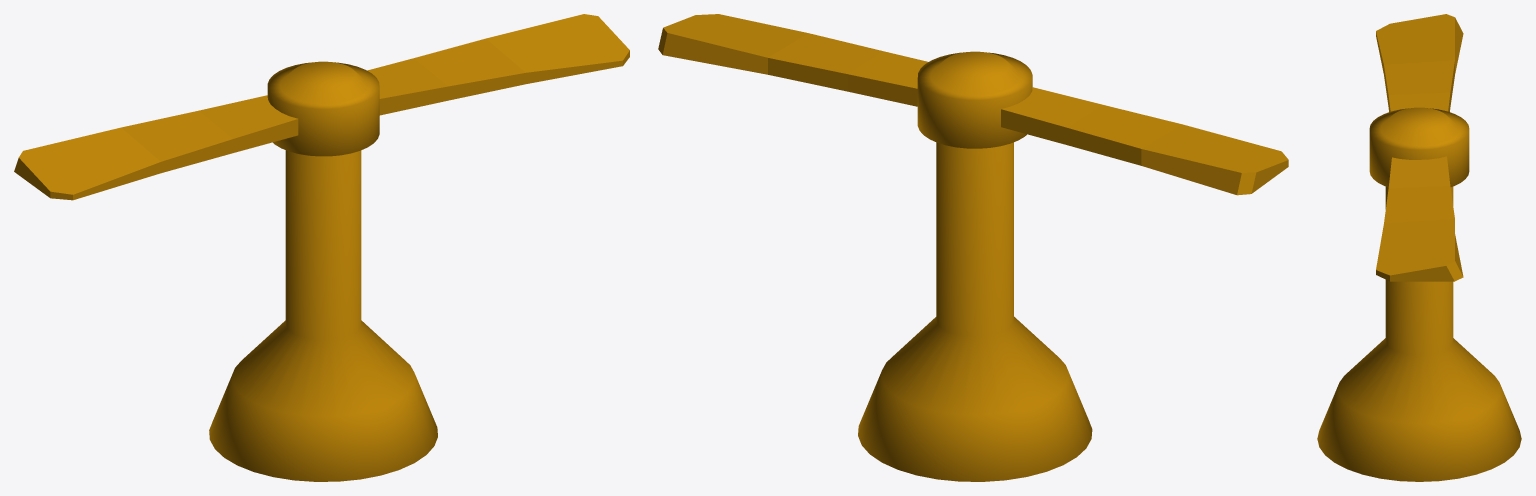
File: Bamboo_Copter.fbx
3 views of the same model, side by side, from view 1: azimuth 30°, elevation 25°; view 2: azimuth 150°, elevation 25°; view 3: azimuth 270°, elevation 25° (orthographic). The views are drawn at different scales.
Visible parts, largest first — view 1: Cylinder.009, Cylinder.007; view 2: Cylinder.009, Cylinder.007; view 3: Cylinder.009, Cylinder.007.
Boxes of the visible parts, x1,y1,x2,y2 form: Cylinder.009: (209, 150, 437, 481); Cylinder.007: (14, 14, 629, 200); Cylinder.009: (858, 142, 1092, 481); Cylinder.007: (658, 14, 1288, 195); Cylinder.009: (1317, 186, 1521, 481); Cylinder.007: (1369, 14, 1469, 281).
Bounding box in the file's own units: 49.7 × 29.35 × 17.04.
